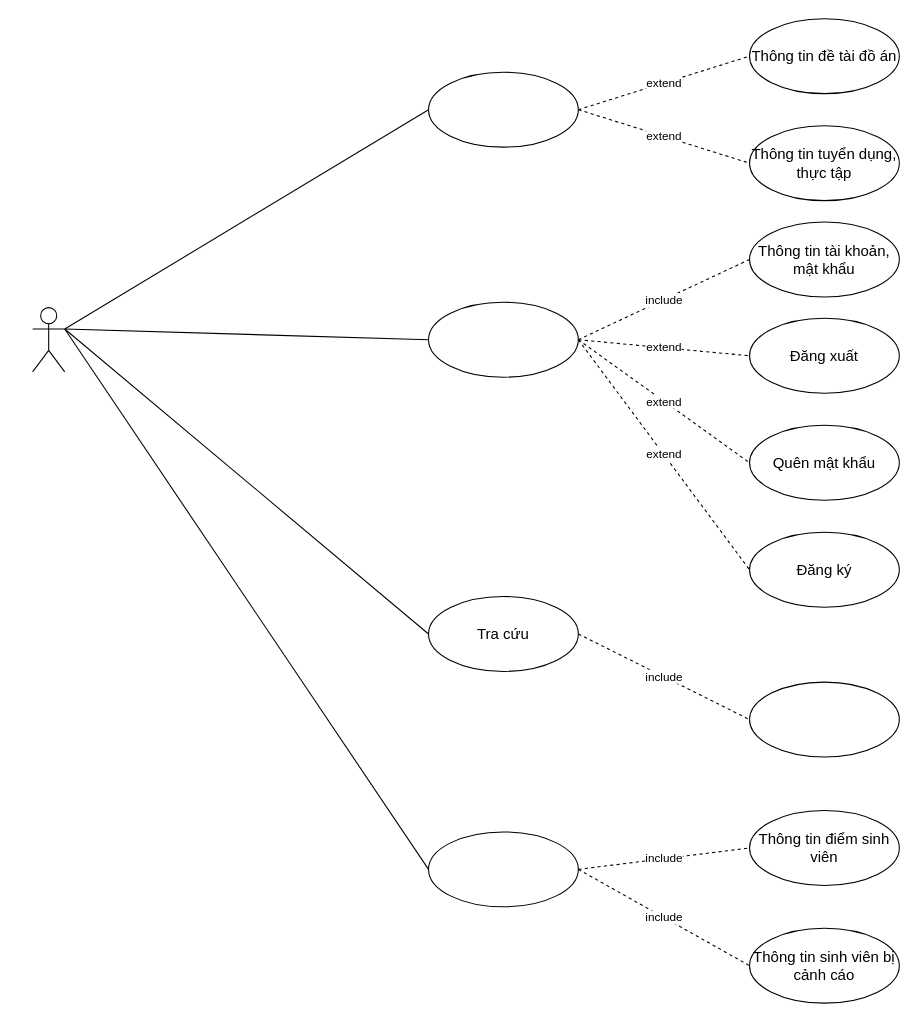
Image size: 918x1022. Some labels were removed from this diagram. Here are the shapes that lost their labels. From the top down, the centre of each, then its label:
At (502,109): "Cập nhật thông tin profile".
At (48,339): "Giảng viên".
At (502,339): "Đăng nhập".
At (823,719): "Thông tin sinh viên lớp phụ trách".
At (502,869): "Thống kê".
